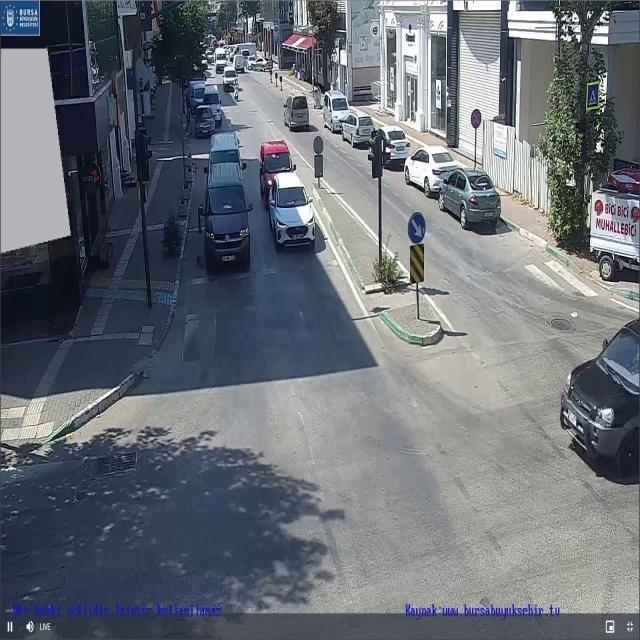Car: (560, 318, 638, 478), (438, 166, 502, 230), (266, 172, 316, 248), (404, 145, 460, 193), (259, 140, 295, 208), (368, 126, 408, 166), (322, 89, 352, 133), (340, 112, 374, 147), (283, 92, 309, 130), (194, 106, 218, 138), (251, 56, 273, 72), (247, 56, 257, 70), (206, 50, 214, 63)
Cycle: (231, 83, 240, 101)
Truck: (586, 185, 640, 281)
Van: (198, 162, 254, 268), (199, 132, 248, 177), (201, 84, 224, 125), (229, 42, 258, 61), (222, 66, 239, 92), (214, 47, 227, 74), (232, 54, 247, 73)
